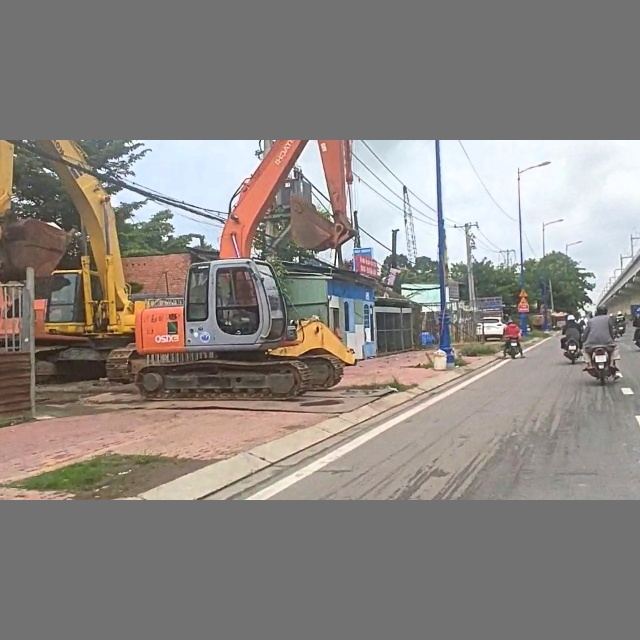W.203c: (518, 288, 528, 297)
W.245a: (517, 297, 529, 305)
